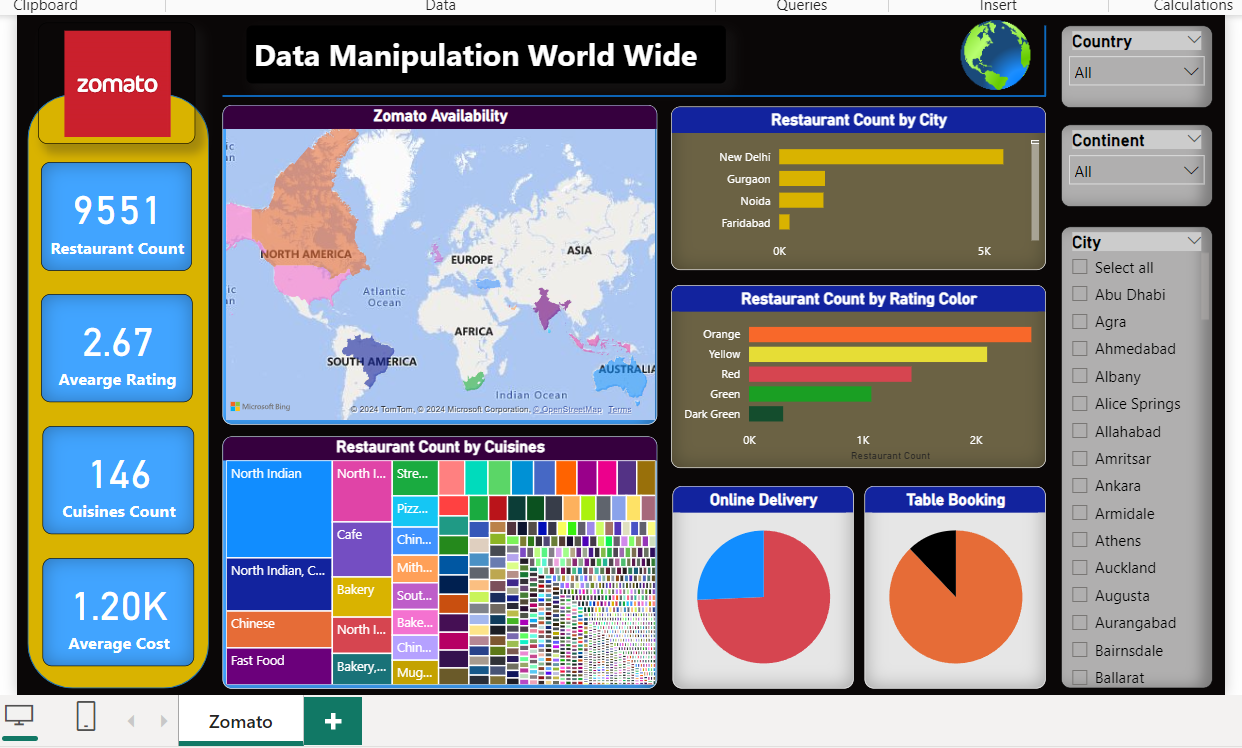

What the dashboard file says about the page in this screenshot:
{"tool":"powerbi","page":{"name":"Zomato","canvas":[1280,720],"ordinal":0},"visuals":[{"type":"filledMap","title":"Zomato Availability","fields":{"Category":["Country Code.Country"],"Series":["Country Code.Country"]},"box":[217.7,95.4,460.9,338.5],"z":5000},{"type":"shape","box":[11.1,84.2,192.3,629.4],"z":5500},{"type":"card","fields":{"Values":["Zomato Global.Restaurant Count"]},"box":[26,155.8,160,115],"z":5750},{"type":"card","fields":{"Values":["KPIs.Average Cost"]},"box":[27.6,575.4,160.5,114.4],"z":5875},{"type":"card","fields":{"Values":["KPIs.Avearge Rating"]},"box":[26,295.6,160.5,114.4],"z":5937},{"type":"card","fields":{"Values":["Cuisines.Number Of Cuisines"]},"box":[27.6,435.5,160.5,114.4],"z":5968},{"type":"treemap","fields":{"Values":["Zomato Global.Restaurant Count"],"Group":["Zomato Global.Cuisines"]},"box":[217.7,446.6,460.9,267],"z":6000},{"type":"slicer","fields":{"Values":["Country Code.Country"]},"box":[1106.2,11.1,160.5,87.4],"z":7000},{"type":"slicer","fields":{"Values":["Country Code.Continent"]},"box":[1106.2,116,160.5,87.4],"z":8000},{"type":"slicer","fields":{"Values":["Zomato Global.City"]},"box":[1106.2,224.1,160.5,489.5],"z":9000},{"type":"textbox","box":[242.7,11.3,508,61.5],"z":10000},{"type":"card","fields":{"Values":["Zomato Global.Restaurant Count"]},"box":[1493.1,158.3,181.2,110],"z":11000},{"type":"card","fields":{"Values":["KPIs.Average Cost"]},"box":[1494.8,570.9,179.6,110],"z":12000},{"type":"card","fields":{"Values":["KPIs.Avearge Rating"]},"box":[1491.5,295.8,179.6,110],"z":13000},{"type":"card","fields":{"Values":["Cuisines.Number Of Cuisines"]},"box":[1493.1,433.4,179.6,110],"z":14000},{"type":"image","box":[22.3,7.9,166.9,128.7],"z":14001},{"type":"image","box":[983.8,0,106.5,84.2],"z":14002},{"type":"shape","box":[217.7,54,872.6,63.6],"z":14003},{"type":"barChart","fields":{"Y":["Zomato Global.Restaurant Count"],"Category":["Zomato Global.City"]},"box":[693.5,97,397.4,173.2],"z":14004},{"type":"barChart","fields":{"Y":["Zomato Global.Restaurant Count"],"Category":["KPIs.Rating Color"]},"box":[693.5,286.1,397.4,193.9],"z":14005},{"type":"pieChart","title":"Online Delivery","fields":{"Y":["Zomato Global.Restaurant Count"],"Category":["KPIs.Has Online delivery"]},"box":[694.6,499.1,192,214.6],"z":14006},{"type":"pieChart","title":"Table Booking","fields":{"Y":["Zomato Global.Restaurant Count"],"Category":["KPIs.Has Table booking"]},"box":[898,499.1,192.3,214.6],"z":14007},{"type":"shape","box":[1068.1,11.1,42.9,74.7],"z":14008}]}

Visuals, with their boxes in screenshot pixels (x1, y1, x2, y2):
"Zomato Availability" filledMap: region(212, 98, 653, 422)
shape: region(14, 87, 198, 689)
card - Zomato Global.Restaurant Count: region(28, 156, 181, 266)
card - KPIs.Average Cost: region(30, 557, 183, 667)
card - KPIs.Avearge Rating: region(28, 289, 182, 399)
card - Cuisines.Number Of Cuisines: region(30, 423, 183, 533)
treemap - Zomato Global.Restaurant Count x Zomato Global.Cuisines: region(212, 434, 653, 689)
slicer - Country Code.Country: region(1062, 17, 1215, 101)
slicer - Country Code.Continent: region(1062, 117, 1215, 201)
slicer - Zomato Global.City: region(1062, 221, 1215, 689)
textbox: region(235, 17, 722, 76)
image: region(25, 14, 184, 137)
image: region(945, 6, 1047, 87)
shape: region(212, 58, 1047, 119)
barChart - Zomato Global.Restaurant Count x Zomato Global.City: region(667, 99, 1047, 265)
barChart - Zomato Global.Restaurant Count x KPIs.Rating Color: region(667, 280, 1047, 466)
"Online Delivery" pieChart: region(668, 484, 852, 689)
"Table Booking" pieChart: region(863, 484, 1047, 689)
shape: region(1025, 17, 1066, 89)
